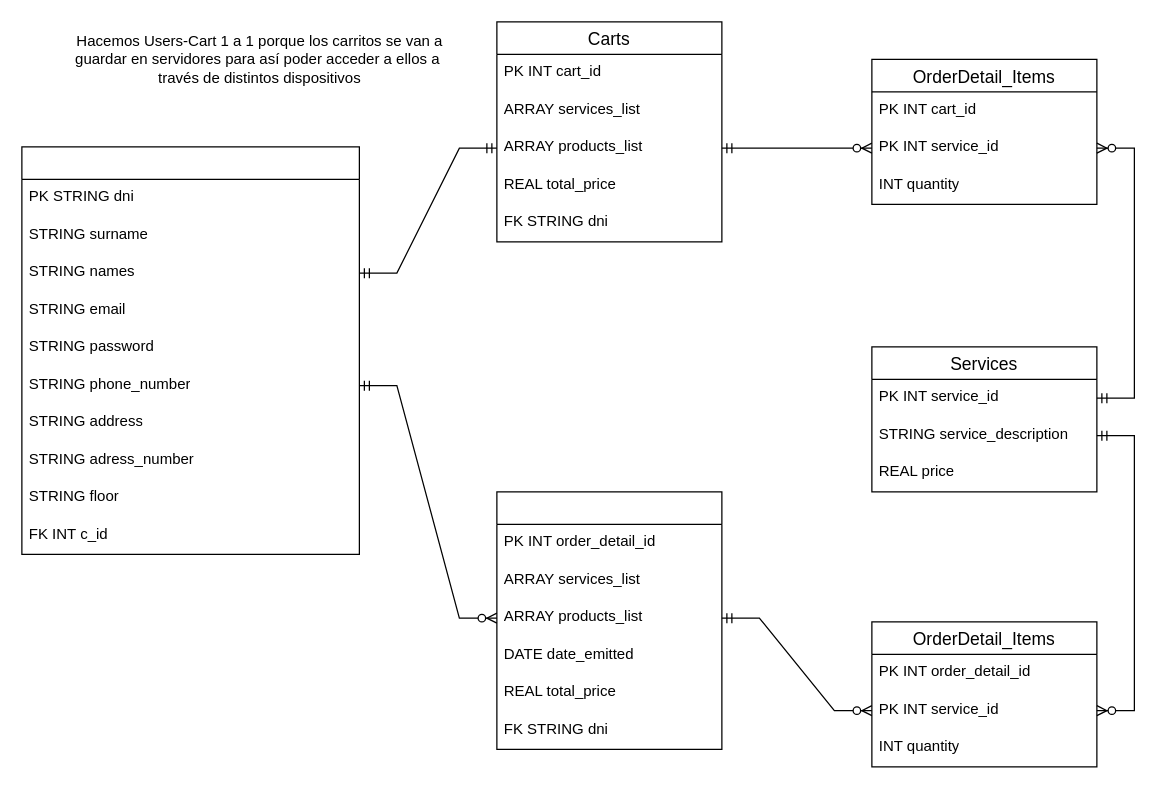
Image size: 1168x793. Some labels were removed from this diagram. Here are the shapes that lost their labels. From the top down, the box of each, then its label:
(21, 146, 359, 554): Users
(496, 491, 722, 749): Order details
